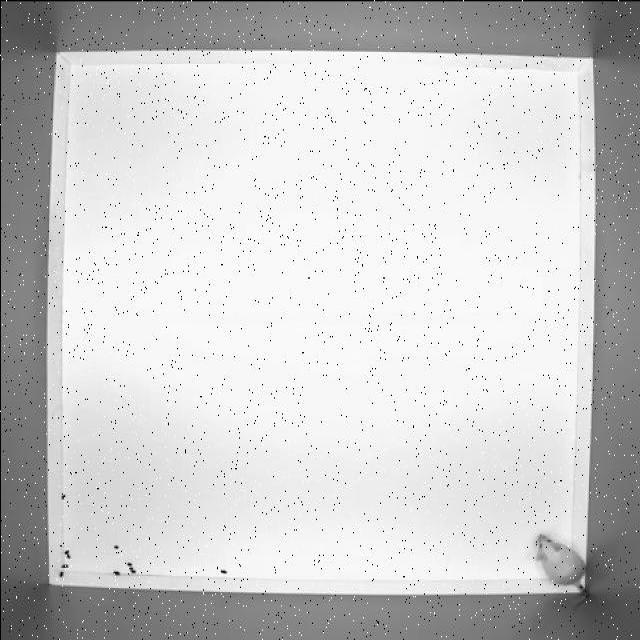rat: (514, 527, 594, 599)
